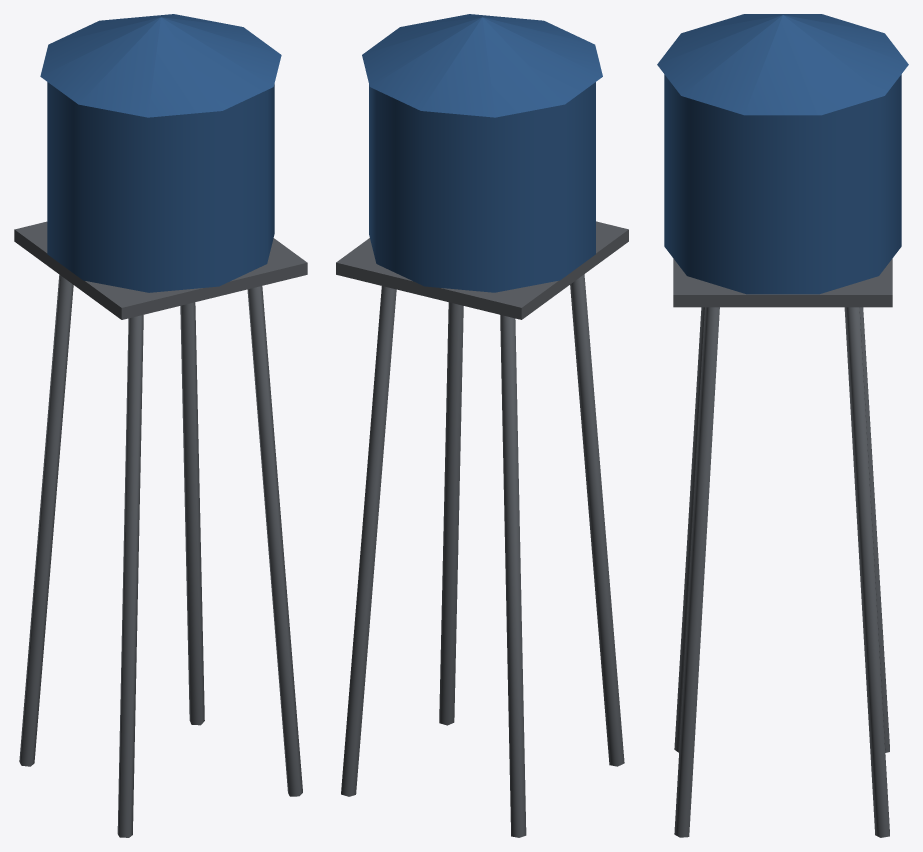
Rendered from caixa_dagua.glb.
3 renders of one model, left to right at view 1: azimuth 30°, elevation 25°; view 2: azimuth 150°, elevation 25°; view 3: azimuth 270°, elevation 25°, orthographic. The views are drawn at different scales.
Visible parts, largest first — view 1: caixa_dagua_liso; view 2: caixa_dagua_liso; view 3: caixa_dagua_liso.
Boxes of the visible parts, x1,y1,x2,y2 form: caixa_dagua_liso: [14, 14, 307, 837]; caixa_dagua_liso: [336, 14, 628, 837]; caixa_dagua_liso: [657, 14, 908, 837].
Bounding box in the file's own units: 2.62 × 9.41 × 2.76.
